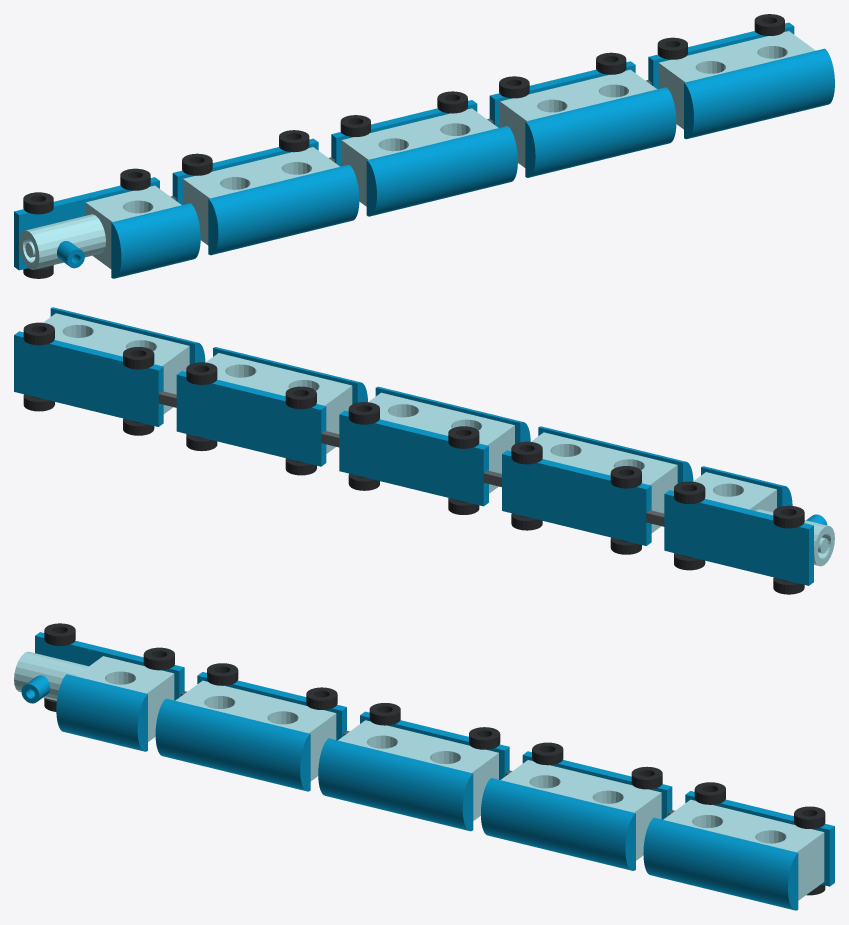
The model's file is tinker.obj.
3 renders of one model, top to bottom at view 1: azimuth 30°, elevation 25°; view 2: azimuth 150°, elevation 25°; view 3: azimuth 330°, elevation 25°, orthographic. The views are drawn at different scales.
Parts seen in each view (by area): view 1: group_0_40919, group_0_11593967, group_0_2829873; view 2: group_0_40919, group_0_11593967, group_0_2829873, group_0_6383466; view 3: group_0_40919, group_0_11593967, group_0_2829873.
Boxes of the visible parts, <box> form: group_0_40919: <box>14,22,834,278</box>; group_0_11593967: <box>19,31,815,269</box>; group_0_2829873: <box>23,14,784,278</box>; group_0_40919: <box>14,307,827,585</box>; group_0_11593967: <box>43,313,834,566</box>; group_0_2829873: <box>23,322,804,594</box>; group_0_6383466: <box>158,391,664,526</box>; group_0_40919: <box>21,632,834,910</box>; group_0_11593967: <box>14,651,824,900</box>; group_0_2829873: <box>44,623,825,895</box>.
Size of the model in its own units: 88 by 8 by 10.03.
